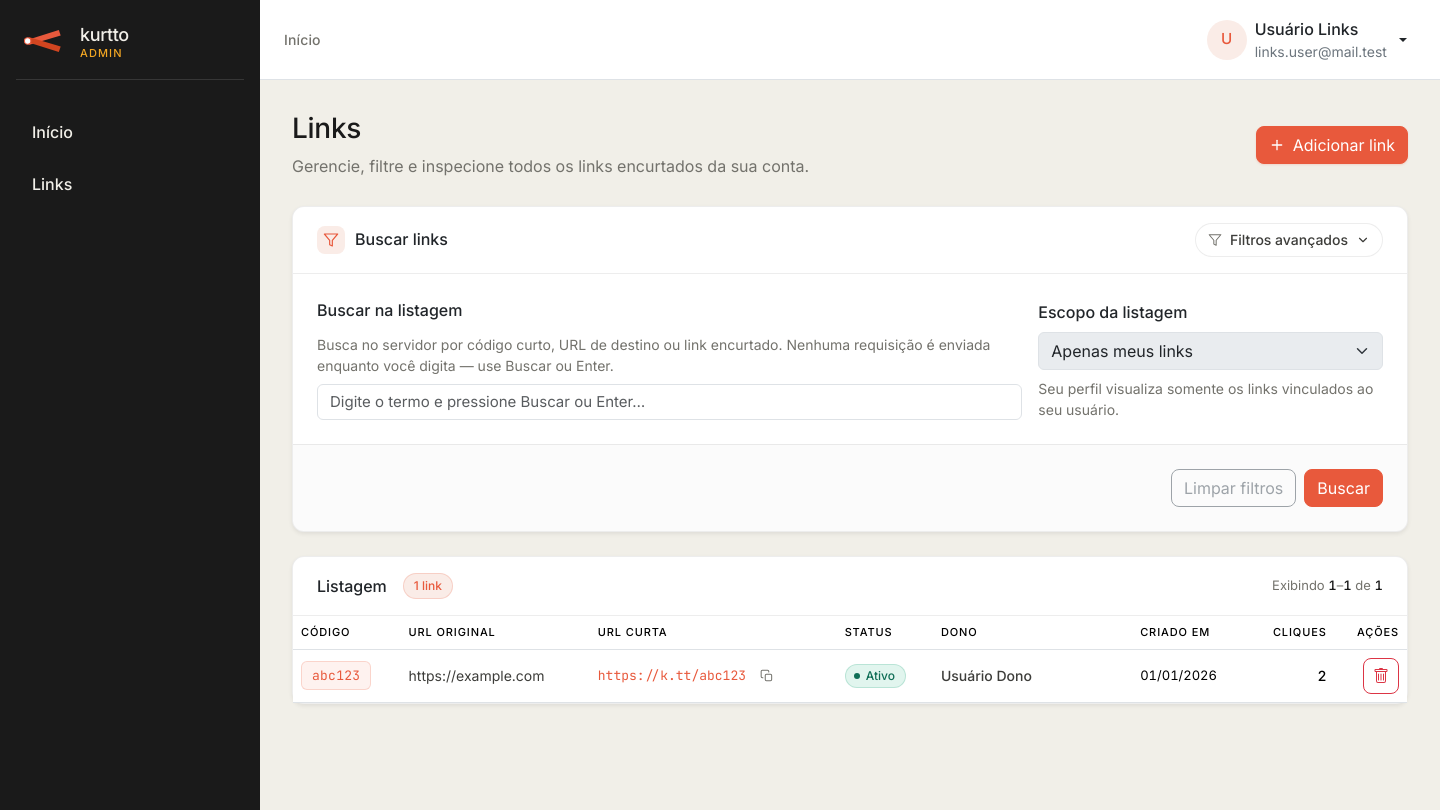
Test: Links › exibe erro ao falhar a exclusão
Expected: the link "https://example.com" is shown, [409,667,545,684]
Step 1. Click the button named "excluir link" → (1381, 676), box [1363,658,1399,694]
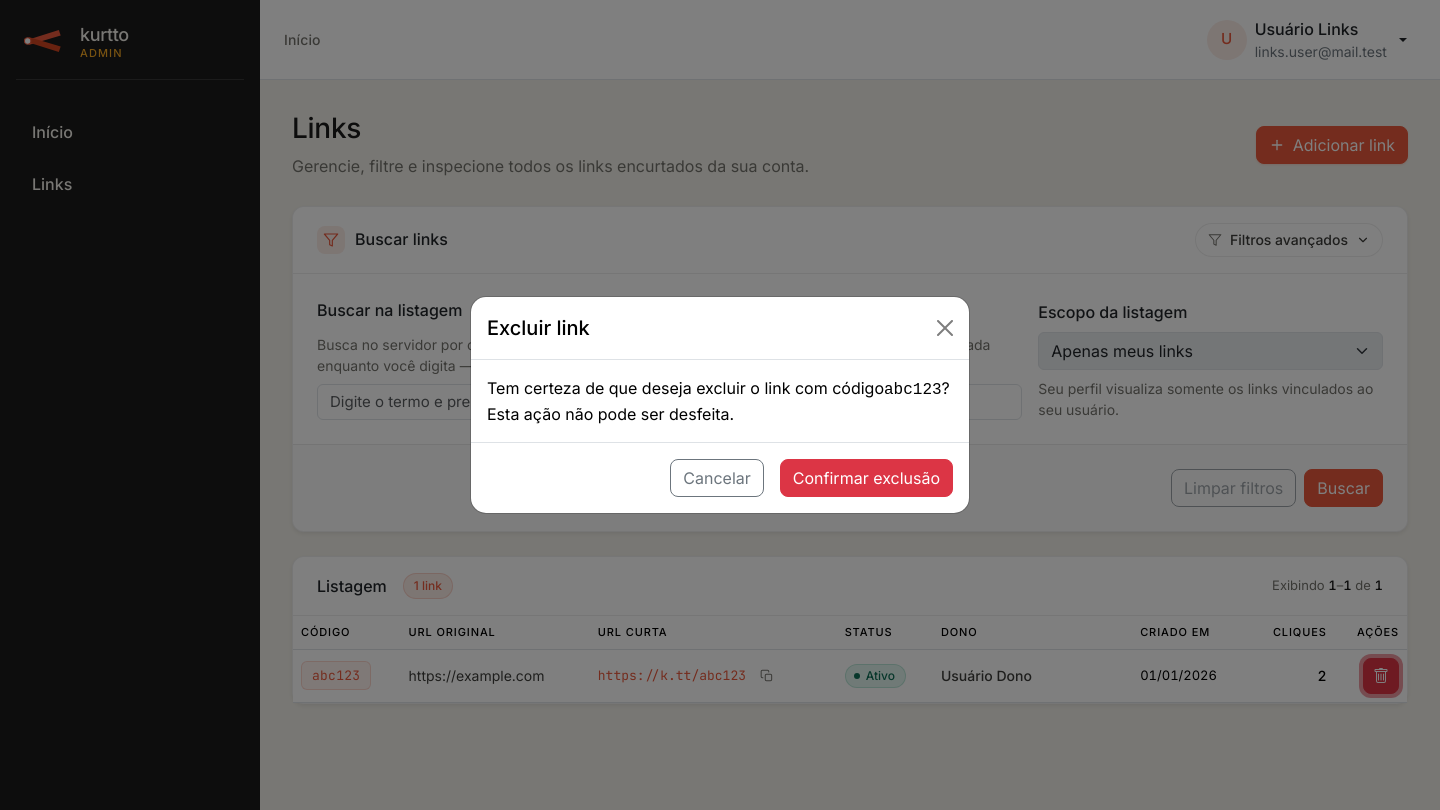
Step 2. Click the button "Confirmar exclusão" → (866, 478), box [780,459,953,497]
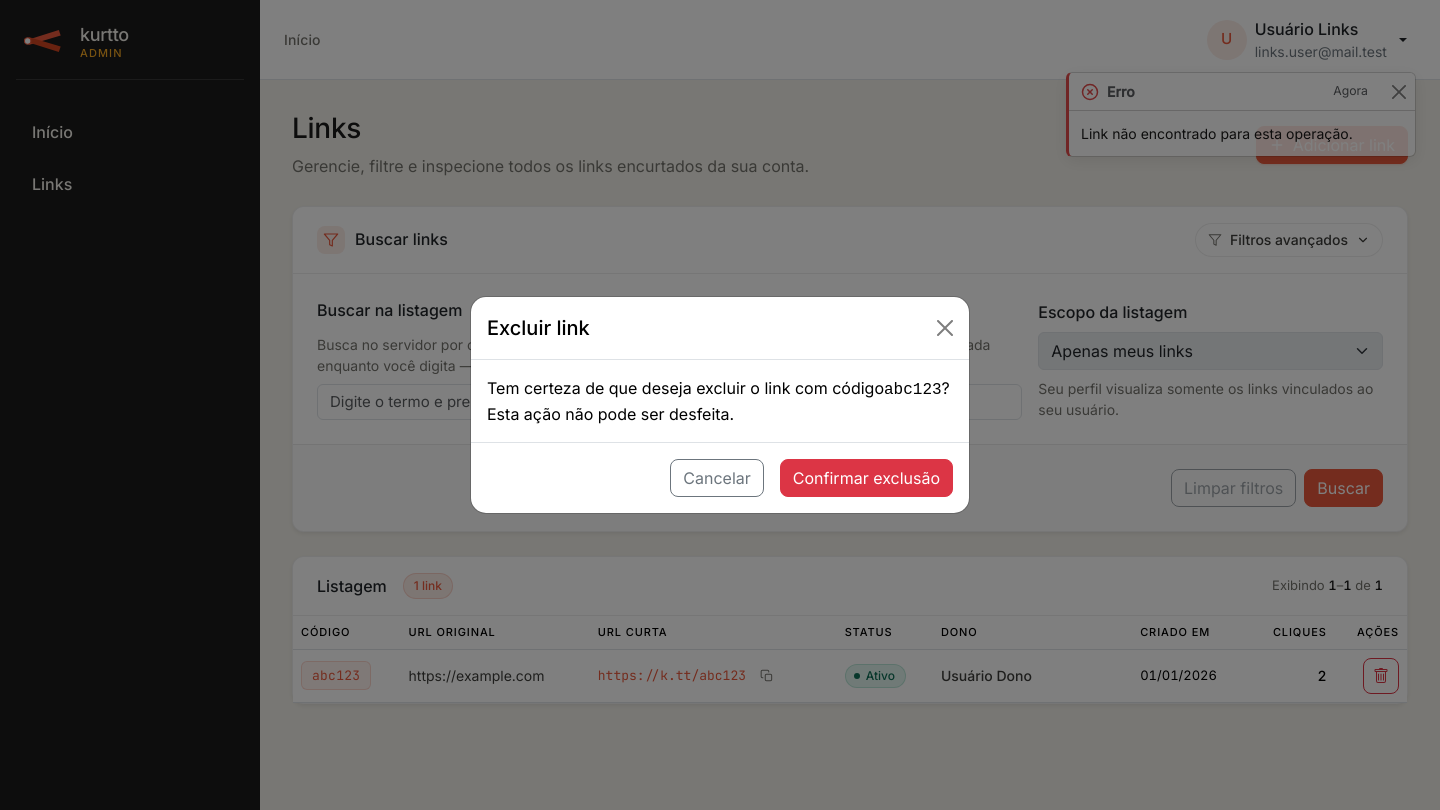
Expected: the text "Link não encontrado para esta operação." is shown, [1081,125,1353,142]
